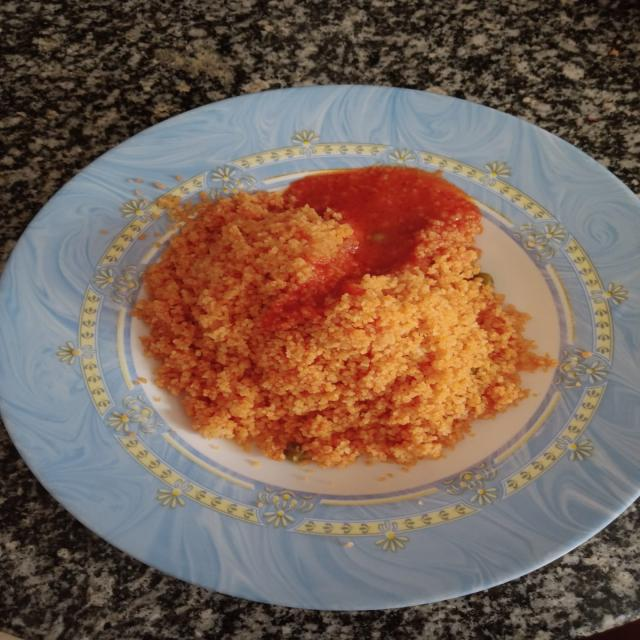Couscous: (23, 94, 640, 527)
